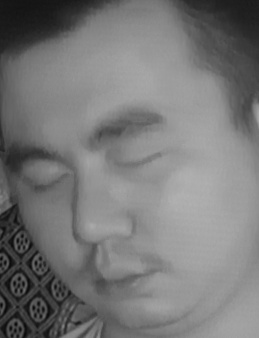blink: (110, 143, 166, 181), (22, 166, 74, 201)
mouth: (78, 250, 165, 307)
